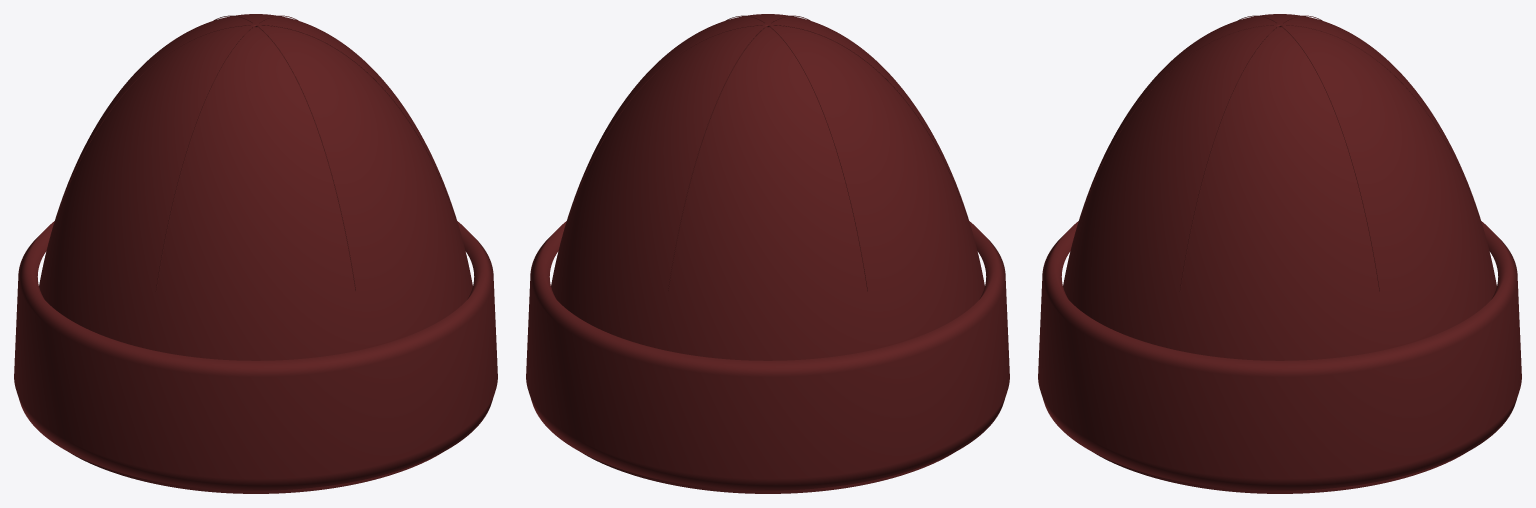
File: sacrificial-beanie-tailored-v6.glb
The picture shows the model from 3 angles, left to right: view 1: azimuth 30°, elevation 25°; view 2: azimuth 150°, elevation 25°; view 3: azimuth 270°, elevation 25°; orthographic projection.
Visible parts, largest first — view 1: Knitted beanie, Crown seam stitching; view 2: Knitted beanie, Crown seam stitching; view 3: Knitted beanie, Crown seam stitching.
Part boxes in pixels (left/top/right/bottom): Knitted beanie: left=14, top=14, right=497, bottom=493; Crown seam stitching: left=56, top=15, right=455, bottom=291; Knitted beanie: left=526, top=14, right=1009, bottom=493; Crown seam stitching: left=568, top=15, right=967, bottom=291; Knitted beanie: left=1038, top=14, right=1521, bottom=493; Crown seam stitching: left=1080, top=15, right=1479, bottom=291.
Size of the model in its own units: 0.224 by 0.1906 by 0.224.
